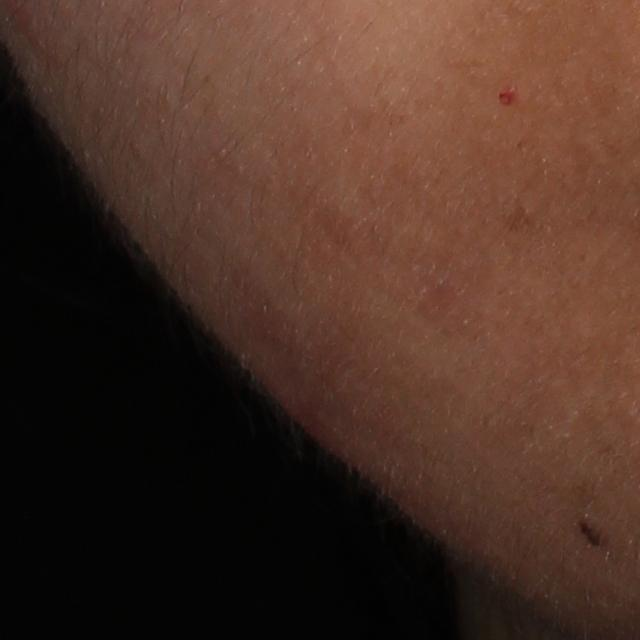nevus: (575, 515, 612, 552)
other: (495, 83, 518, 108)
